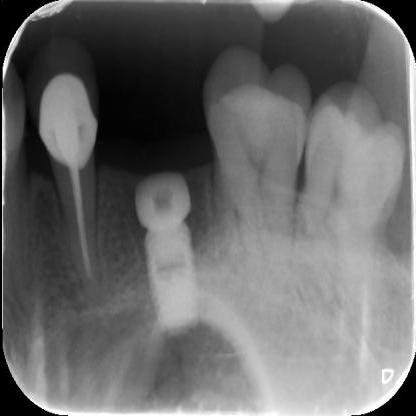Bicon: (129, 179, 198, 335)
